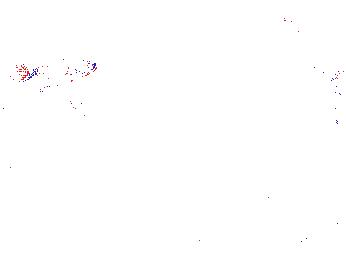red belly glassfish: (148, 65, 161, 82)
redtail glassfish: (38, 77, 90, 121), (17, 56, 98, 84)
